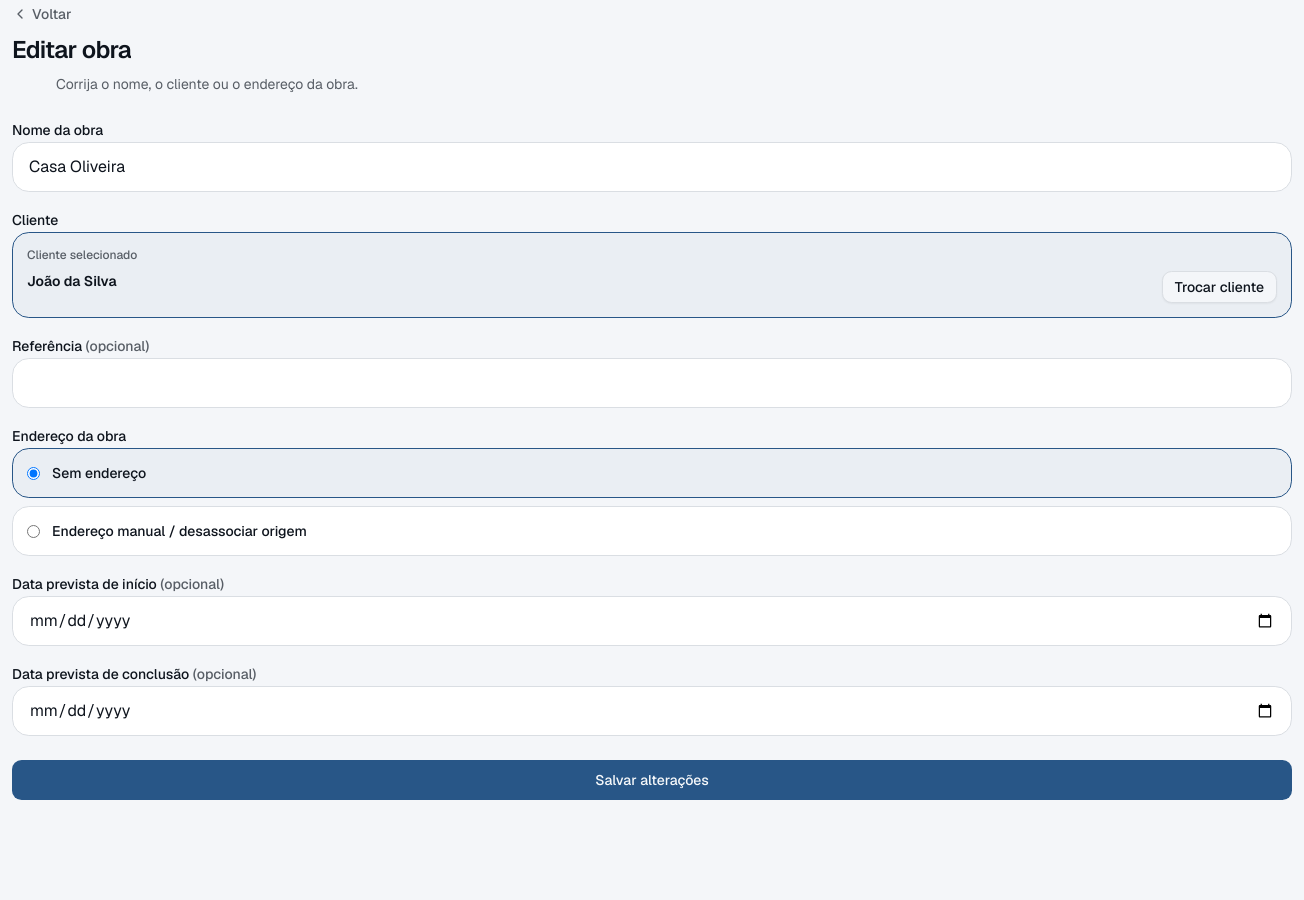
Test: ProjectEditForm › PE10: a 422 on name maps to the name field
Expected: the field labelled "Nome da obra" is shown, [12,142,1292,192]
Click the button "Salvar alterações": x=652, y=780 [12,760,1292,800]
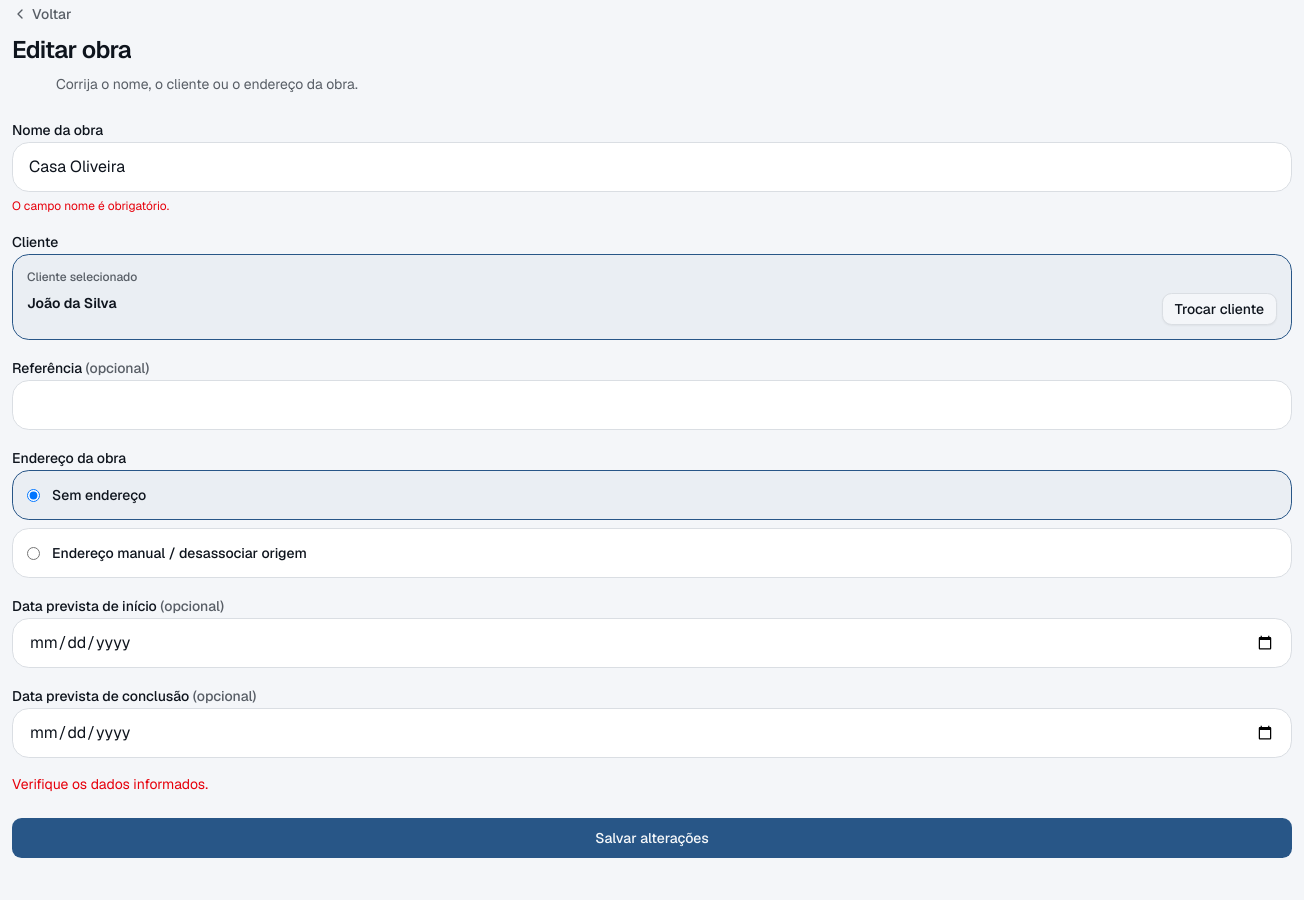
Now the text "O campo nome é obrigatório." is shown, box [12,198,169,214]
